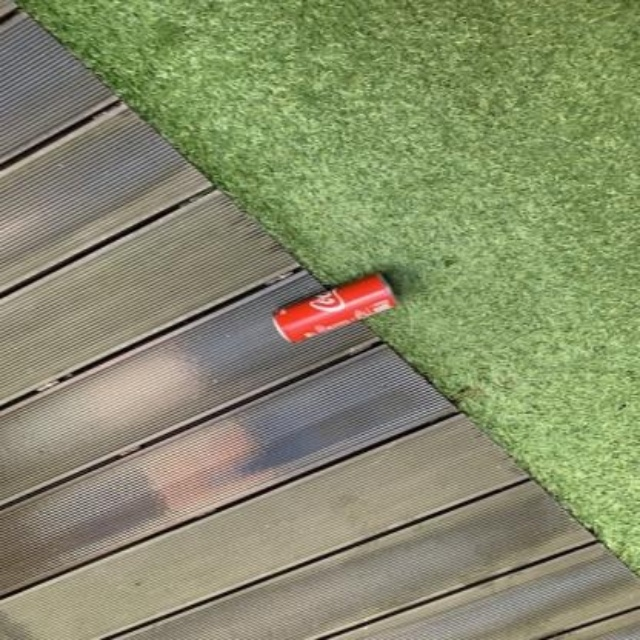trash: (272, 274, 392, 342)
